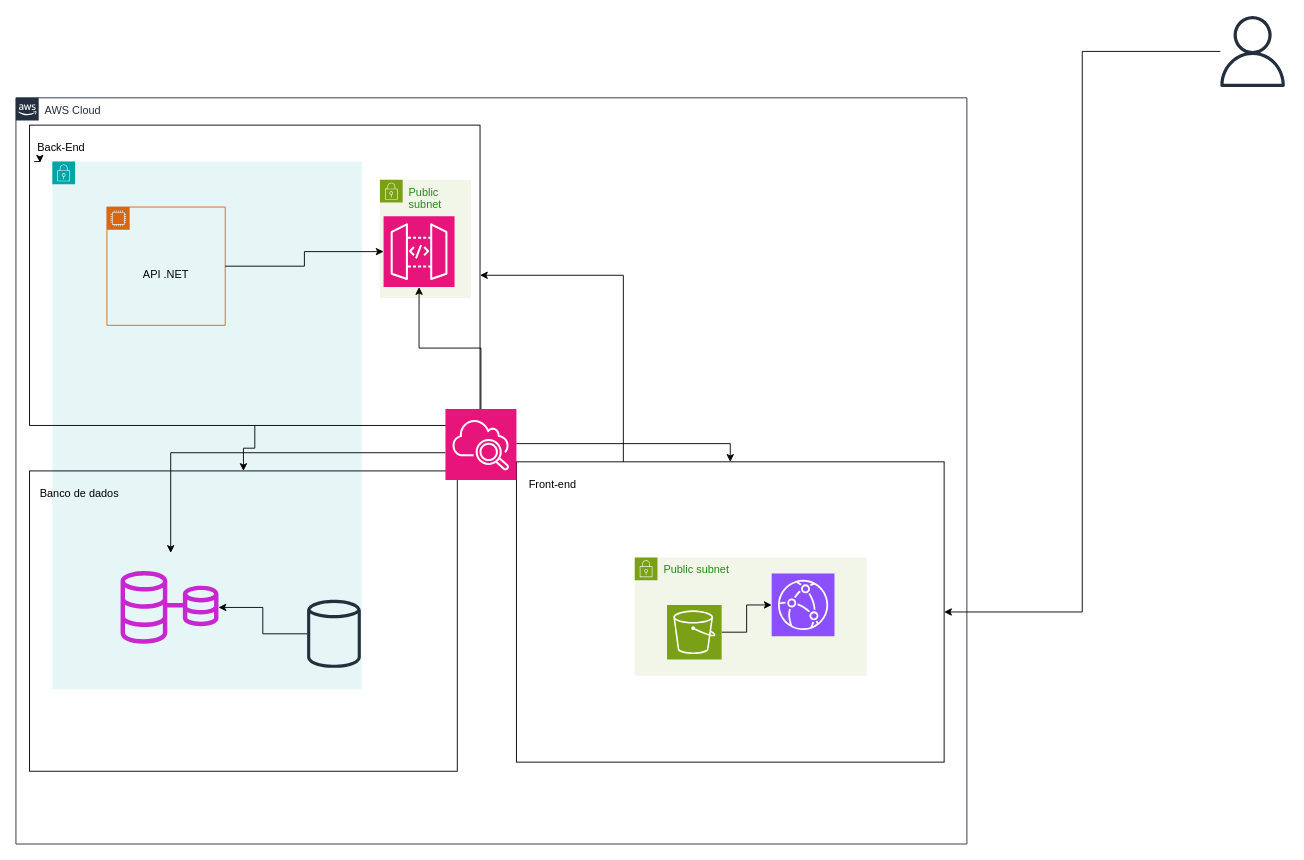
The diagram is 1304 pixels wide and 860 high, and some of its shapes have lost their labels. Each missing label, with the box of its shape:
EC2 instance contents: (106, 206, 225, 325)
Private subnet: (51, 161, 362, 689)
